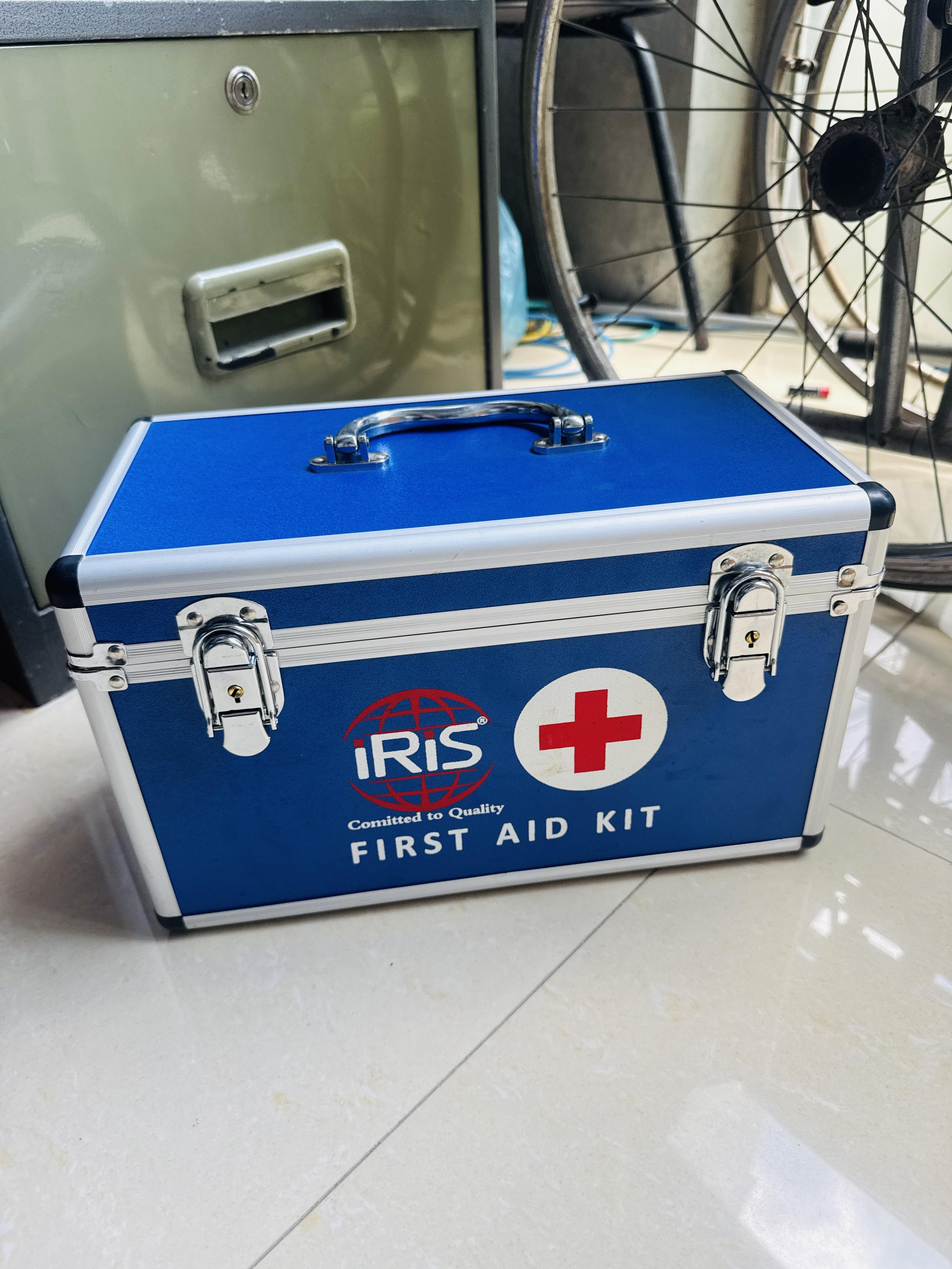FirstAidBox: (17, 341, 918, 963)
